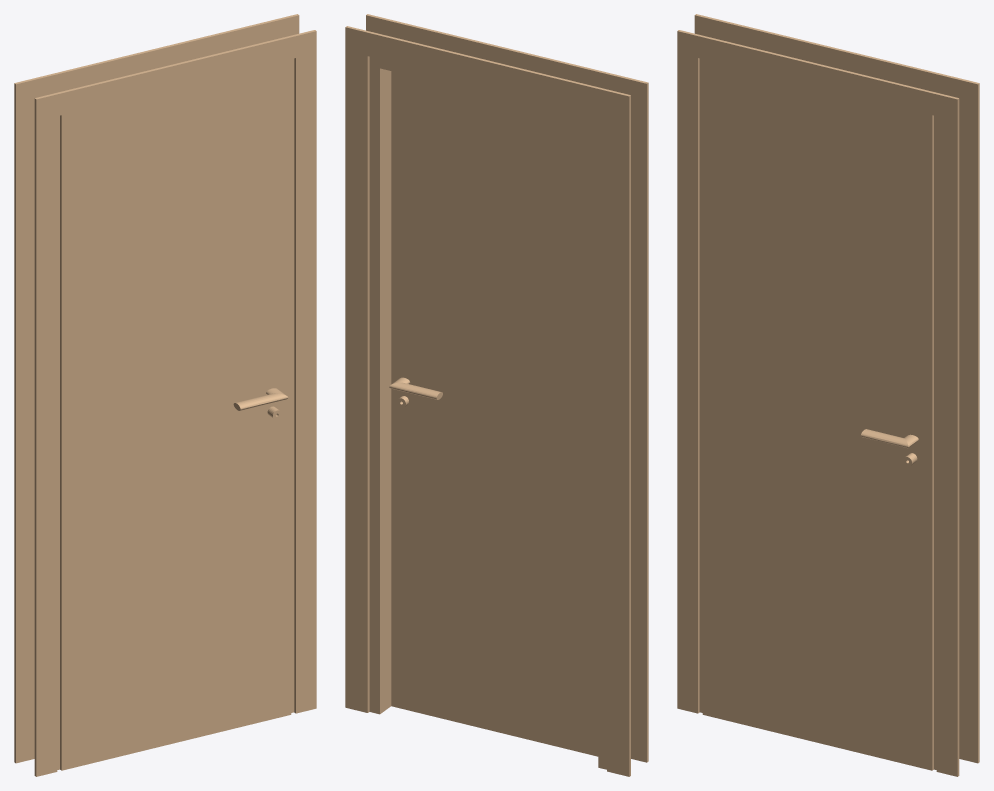
File: doors_Nivel 1.gltf
The picture shows the model from 3 angles, left to right: view 1: azimuth 30°, elevation 25°; view 2: azimuth 150°, elevation 25°; view 3: azimuth 330°, elevation 25°; orthographic projection.
Bounding box in the file's own units: 0.95 × 2.17 × 0.18.
